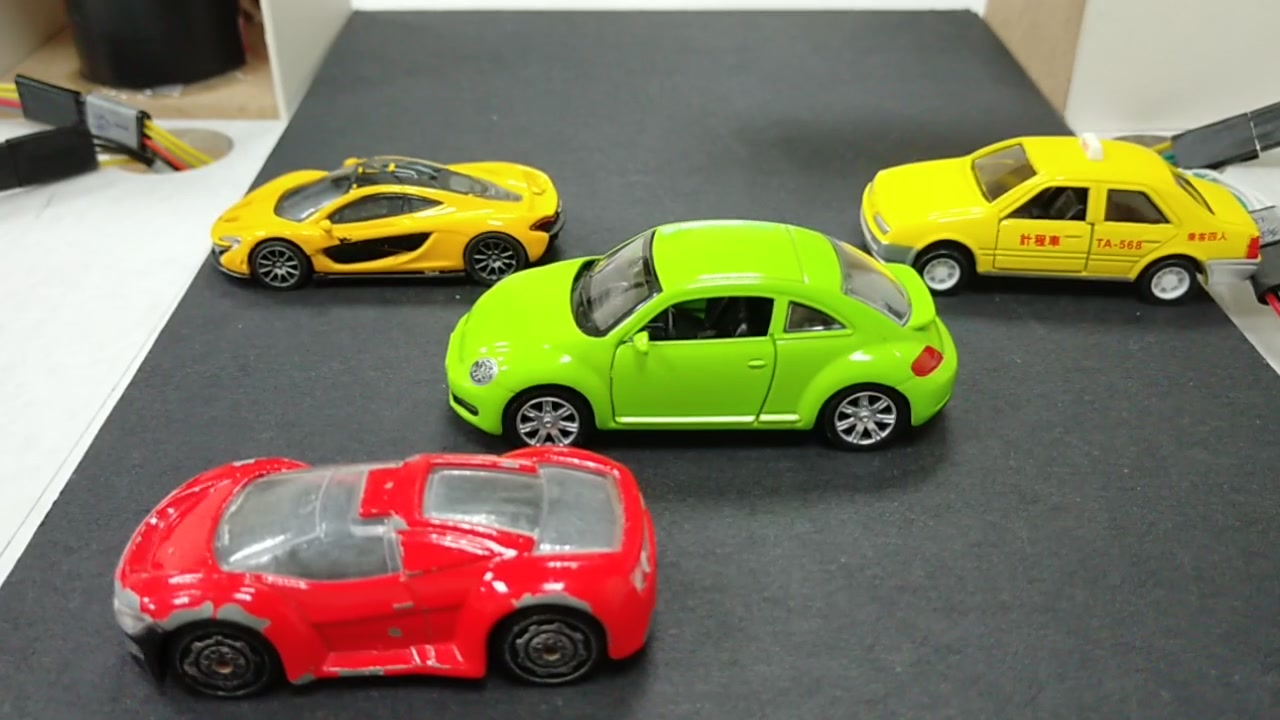car: (134, 461, 651, 684), (458, 224, 938, 442), (856, 132, 1258, 301), (207, 162, 564, 281)
